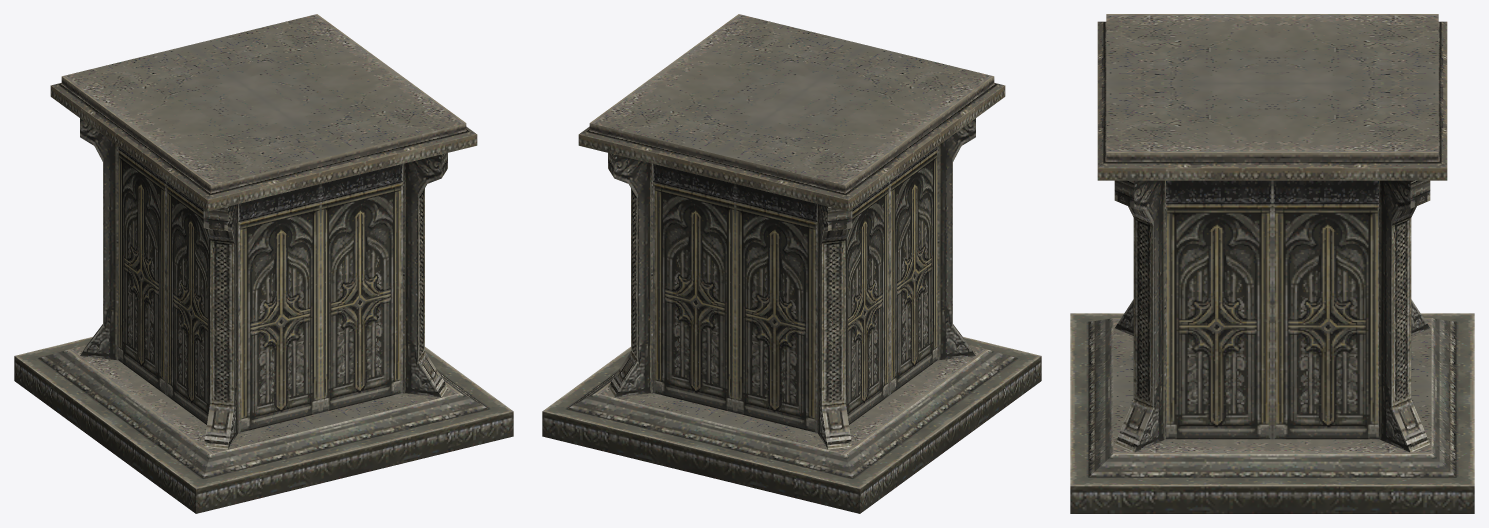
Rendered from zshh_taizii_01.FBX.
3 renders of one model, left to right at view 1: azimuth 30°, elevation 25°; view 2: azimuth 150°, elevation 25°; view 3: azimuth 270°, elevation 25°, orthographic. The views are drawn at different scales.
Parts seen in each view (by area): view 1: zshh_taizii_01; view 2: zshh_taizii_01; view 3: zshh_taizii_01.
Boxes of the visible parts, x1=… form: zshh_taizii_01: x1=14, y1=14, x2=513, y2=513; zshh_taizii_01: x1=542, y1=14, x2=1041, y2=513; zshh_taizii_01: x1=1070, y1=14, x2=1474, y2=513.
Bounding box in the file's own units: 124 × 123 × 115.
